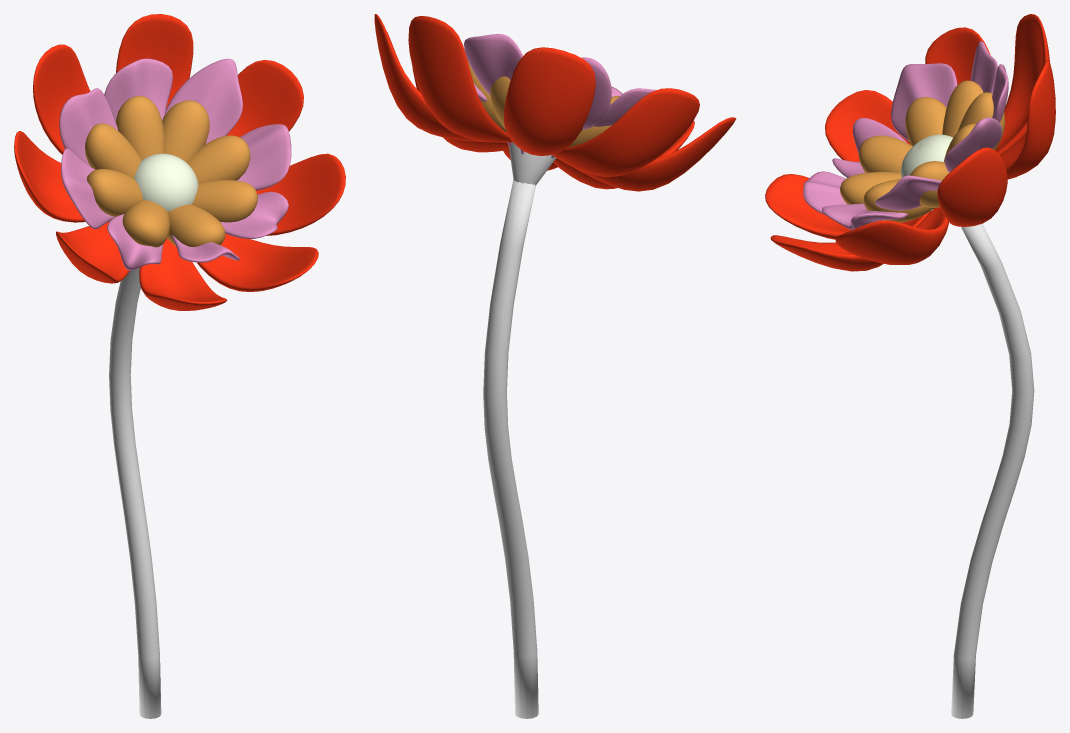
File: floresmale4.fbx
3 views of the same model, side by side, from view 1: azimuth 30°, elevation 25°; view 2: azimuth 150°, elevation 25°; view 3: azimuth 270°, elevation 25° (orthographic). The views are drawn at different scales.
Visible parts, largest first — view 1: BézierCurve.007, Cube.122, Cube.121, Cube.120, Cube.119, Cube.123, Cube.118, Cube.153, Cube.117, Cube.116, Cylinder.015, Cube.152 (+14 smaller); view 2: BézierCurve.007, Cube.118, Cube.119, Cube.117, Cube.116, Cube.120, Cube.152, Cylinder.014, Cube.156, Cube.157, Cube.123, Cube.121 (+1 smaller); view 3: BézierCurve.007, Cube.120, Cube.121, Cube.118, Cube.119, Cube.116, Cube.157, Cube.123, Cube.122, Cube.117, Cube.124, Cube.128 (+13 smaller).
Part boxes in pixels (x1=…): BézierCurve.007: x1=109, y1=268, x2=161, y2=718; Cube.122: x1=197, y1=234, x2=318, y2=291; Cube.121: x1=256, y1=153, x2=345, y2=235; Cube.120: x1=226, y1=60, x2=303, y2=137; Cube.119: x1=116, y1=14, x2=193, y2=108; Cube.123: x1=139, y1=238, x2=227, y2=310; Cube.118: x1=33, y1=44, x2=90, y2=154; Cube.153: x1=165, y1=58, x2=242, y2=144; Cube.117: x1=14, y1=131, x2=85, y2=222; Cube.116: x1=56, y1=221, x2=129, y2=283; Cylinder.015: x1=133, y1=153, x2=198, y2=212; Cube.152: x1=104, y1=58, x2=172, y2=121; BézierCurve.007: x1=483, y1=180, x2=538, y2=718; Cube.118: x1=504, y1=47, x2=595, y2=155; Cube.119: x1=408, y1=16, x2=512, y2=142; Cube.117: x1=552, y1=88, x2=699, y2=176; Cube.116: x1=577, y1=117, x2=736, y2=191; Cube.120: x1=374, y1=14, x2=489, y2=142; Cube.152: x1=464, y1=34, x2=524, y2=154; Cylinder.014: x1=508, y1=142, x2=555, y2=185; Cube.156: x1=581, y1=57, x2=611, y2=129; Cube.157: x1=551, y1=88, x2=656, y2=157; Cube.123: x1=553, y1=120, x2=694, y2=189; Cube.121: x1=412, y1=69, x2=509, y2=152; BézierCurve.007: x1=951, y1=223, x2=1034, y2=718; Cube.120: x1=937, y1=147, x2=1007, y2=226; Cube.121: x1=835, y1=207, x2=948, y2=264; Cube.118: x1=995, y1=14, x2=1049, y2=155; Cube.119: x1=1000, y1=60, x2=1055, y2=179; Cube.116: x1=825, y1=90, x2=910, y2=161; Cube.157: x1=891, y1=63, x2=957, y2=141; Cube.123: x1=765, y1=174, x2=881, y2=239; Cube.122: x1=770, y1=211, x2=930, y2=271; Cube.117: x1=925, y1=27, x2=990, y2=84; Cube.124: x1=858, y1=135, x2=912, y2=172; Cube.128: x1=905, y1=97, x2=946, y2=146.
Bounding box in the file's own units: 36.61 × 79.98 × 31.37.
